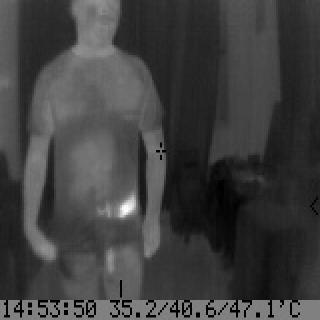Gun: (98, 193, 142, 275)
